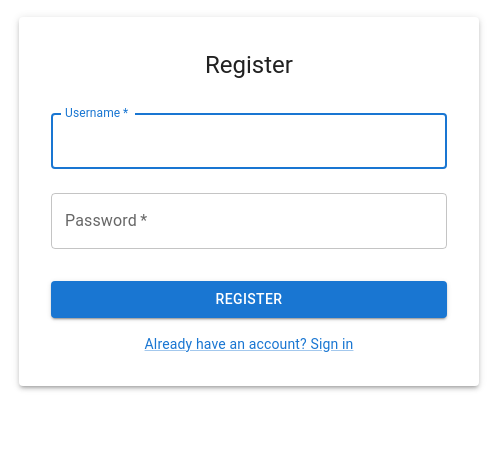
Register Component › handles user already exists error
The width and height of the screenshot is (499, 472).
Type "existinguser" into the field labelled "Username *" at (249, 141), box top-left (51, 113), bottom-right (447, 169)
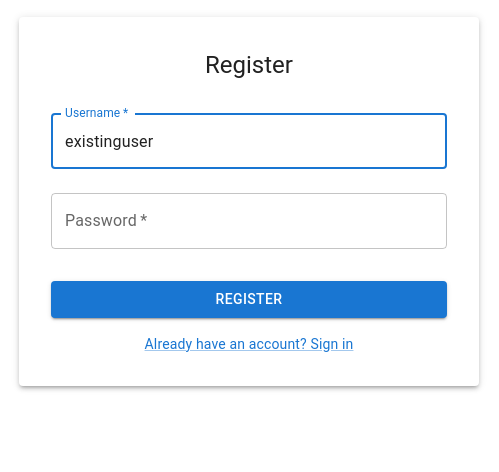
Type "ValidPass1!" into the password field labelled "Password *" at (249, 221), box top-left (51, 193), bottom-right (447, 249)
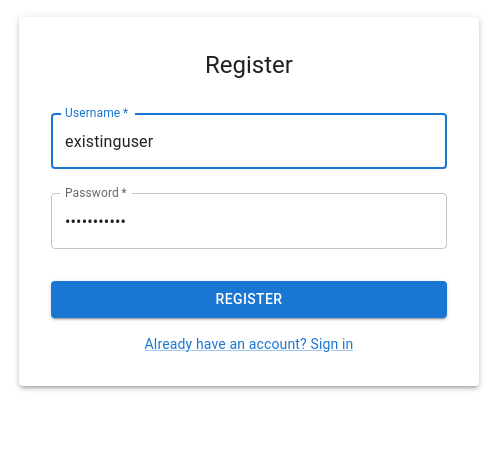
Submit the form from the button "Register", box top-left (51, 281), bottom-right (447, 318)
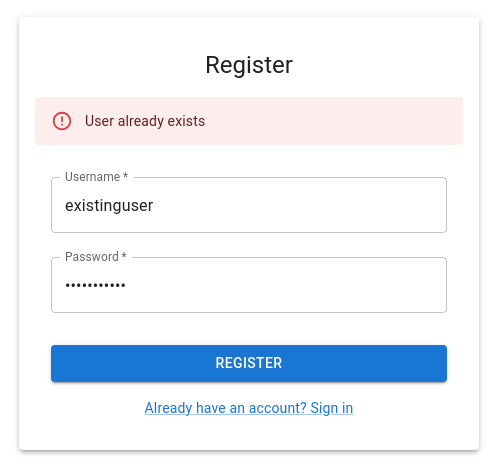
Expected: the text "User already exists" is shown, top-left (85, 113), bottom-right (205, 129)
